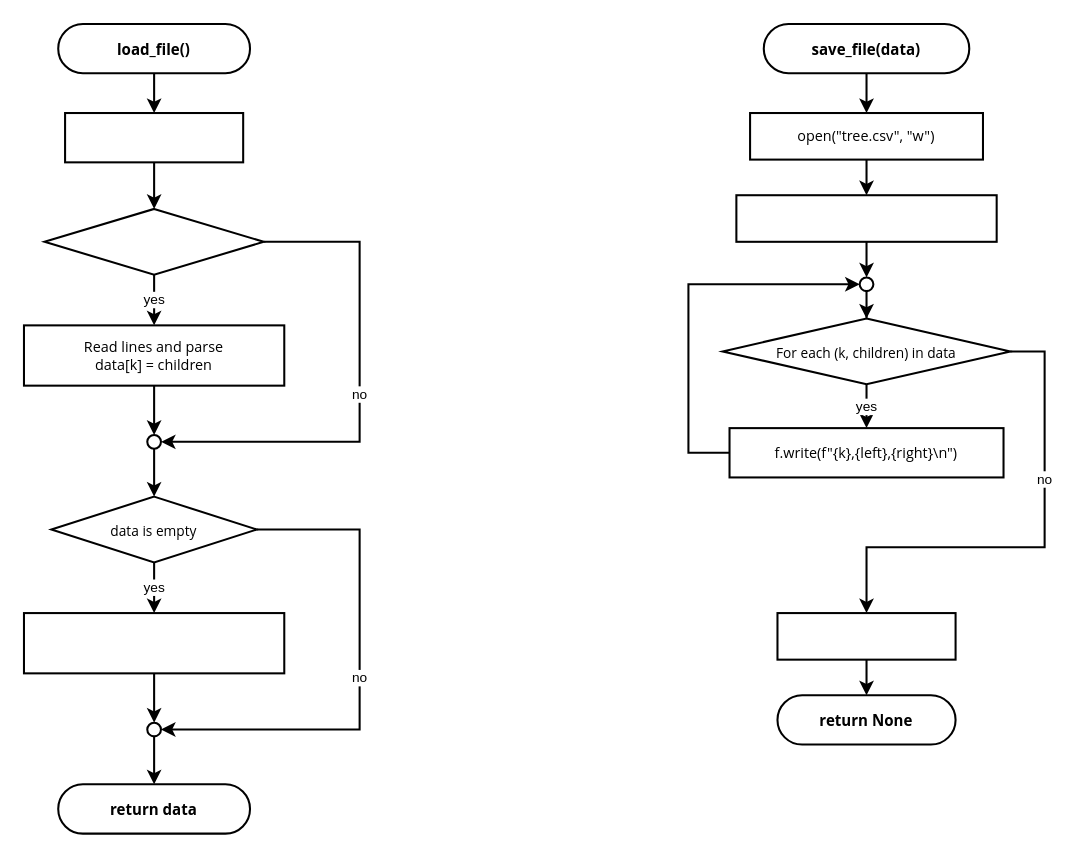
Some shapes in this 1081 by 859 pixel diagram are drawn without their labels. The shapes that lost their labels are listed below. From the top down, each one's centre as x and y in pixels, then its label:
[153,137]: data = {}
[866,218]: f.write("node,left,right\n")
[153,241]: tree.csv exists
[153,642]: data = default (A to O) save_file(data)
[866,635]: close file
